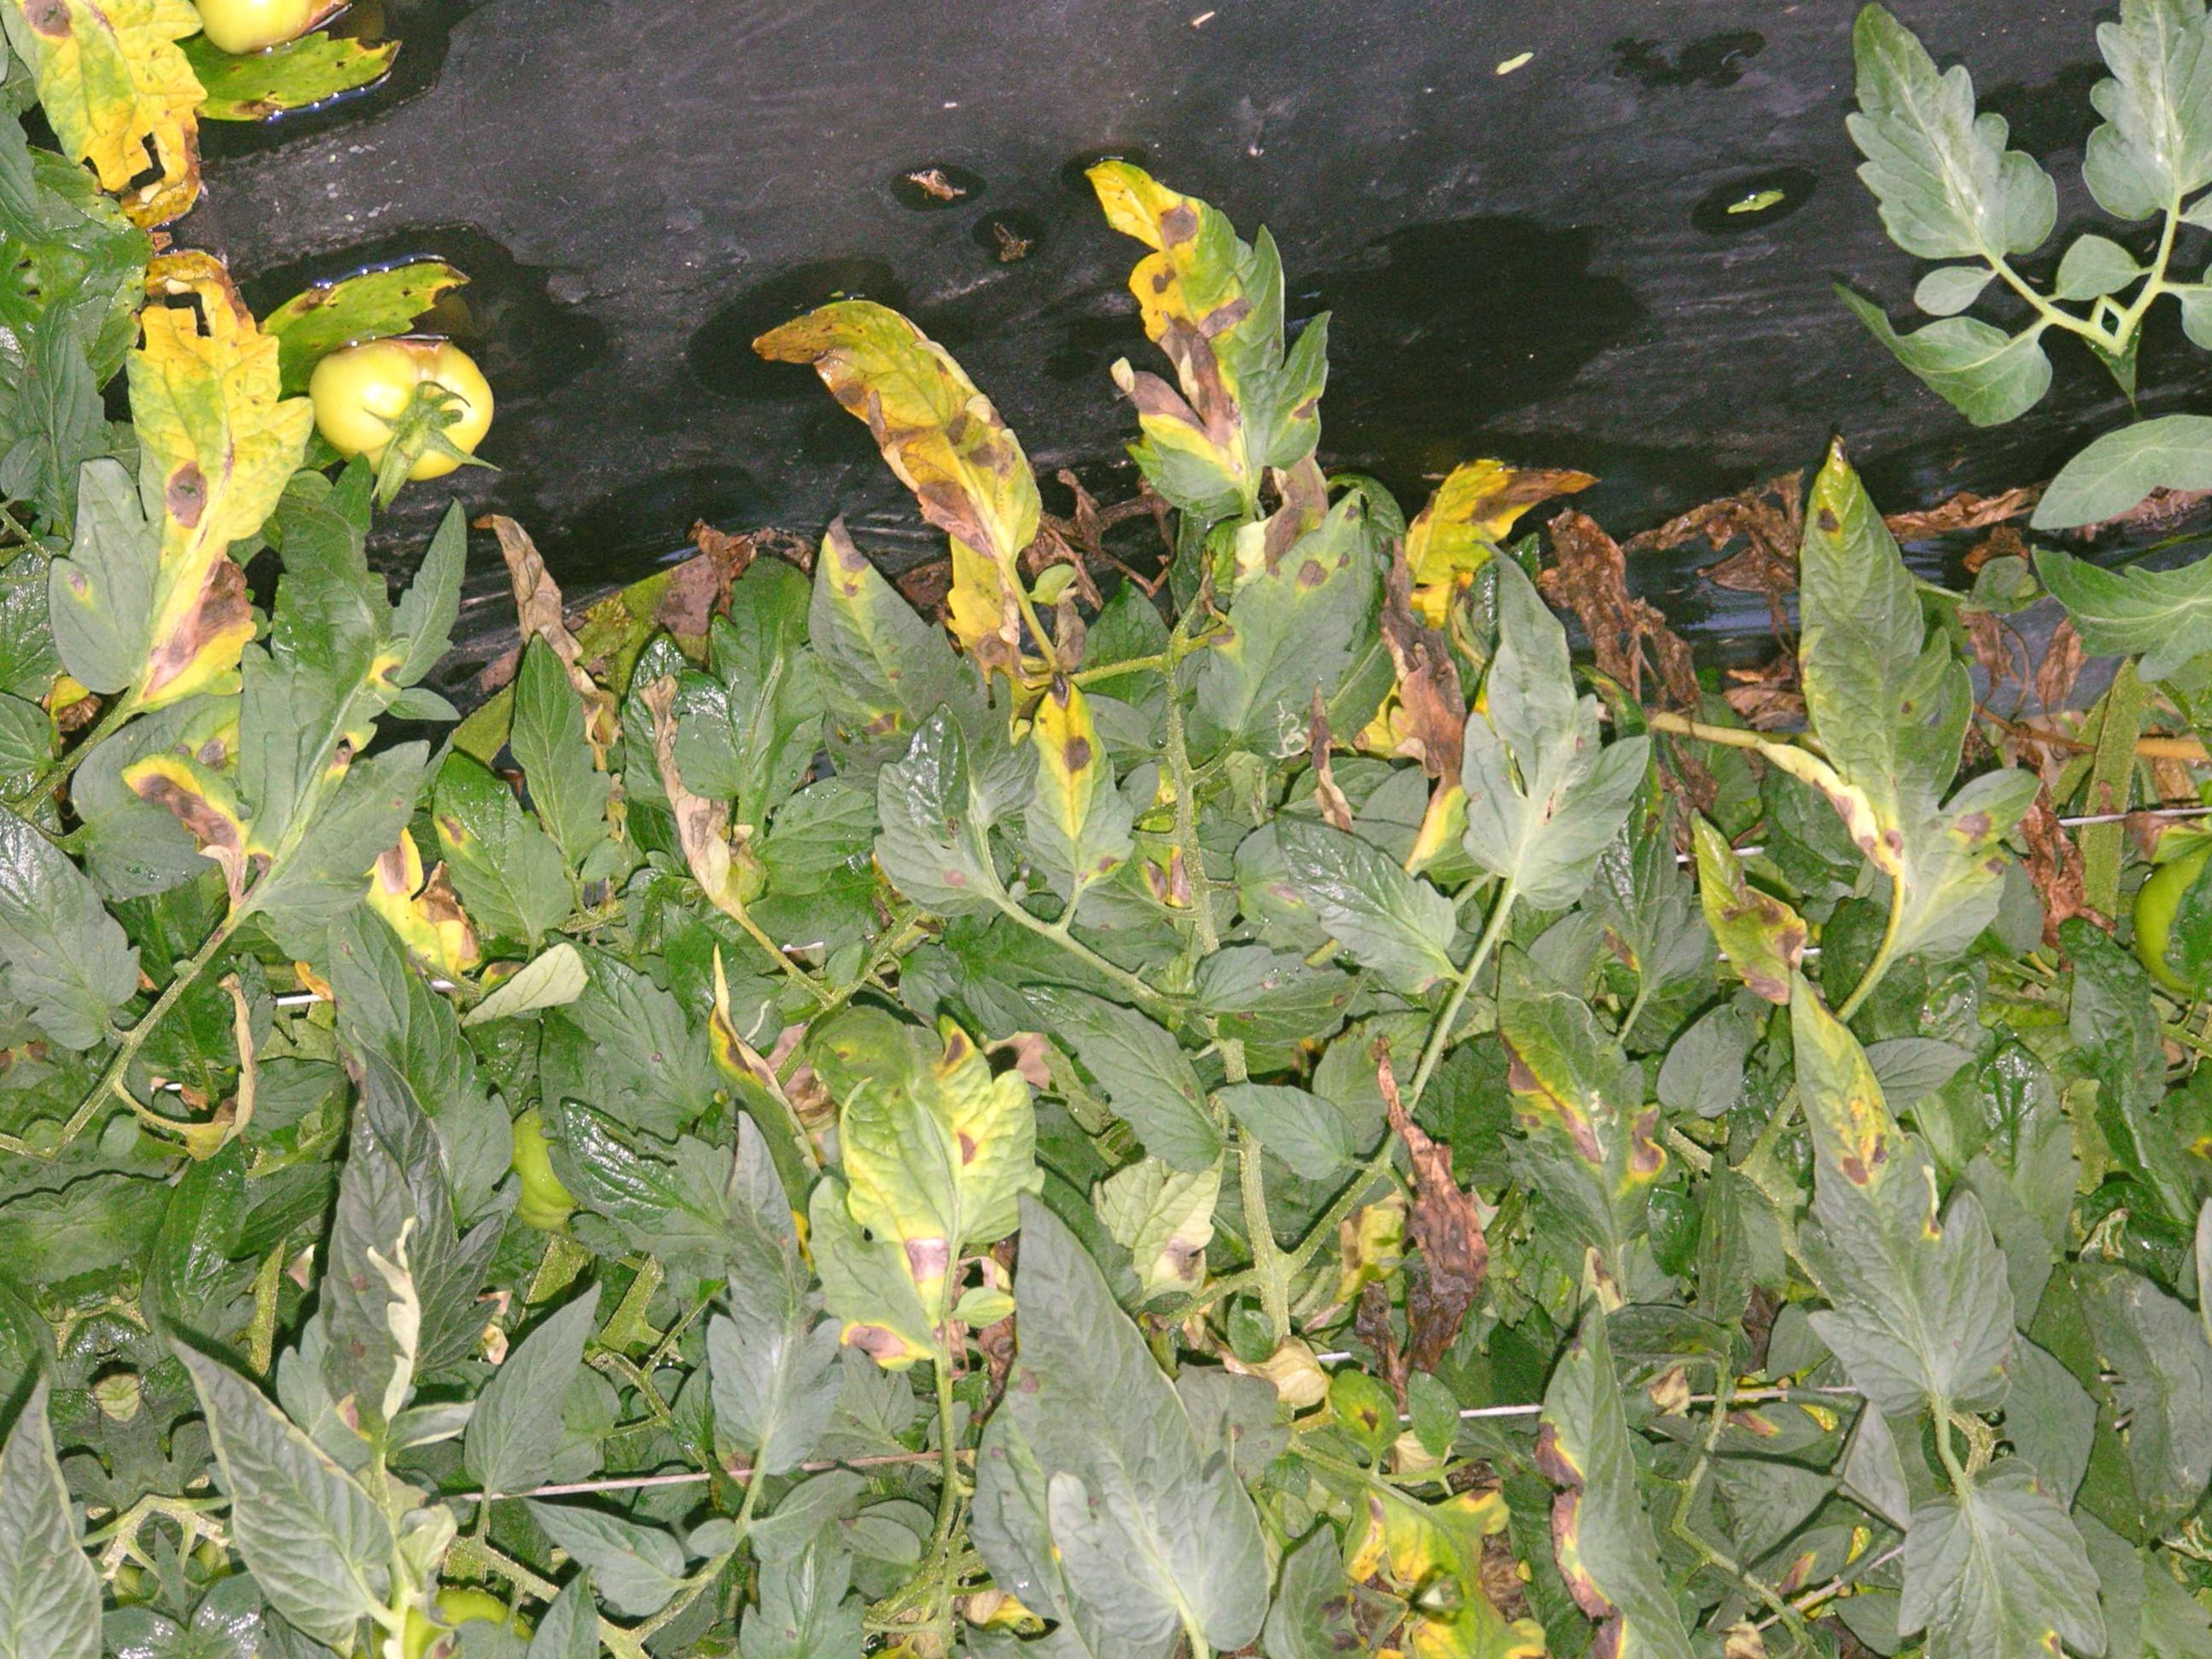Tomato Early blight leaf: (1716, 408, 2083, 1028), (1684, 943, 2062, 1483), (719, 166, 1097, 659), (0, 263, 361, 762), (1035, 91, 1346, 535), (1437, 918, 1698, 1323), (786, 979, 1066, 1270), (385, 688, 606, 974), (1268, 1349, 1519, 1600), (979, 666, 1150, 931), (1667, 805, 1841, 1026)
Tomato leaf: (1791, 0, 2073, 310), (174, 1310, 404, 1659), (660, 1086, 866, 1471), (1012, 931, 1247, 1202), (1256, 763, 1479, 1028), (0, 755, 158, 1063), (446, 1286, 644, 1493), (505, 1450, 702, 1631)
